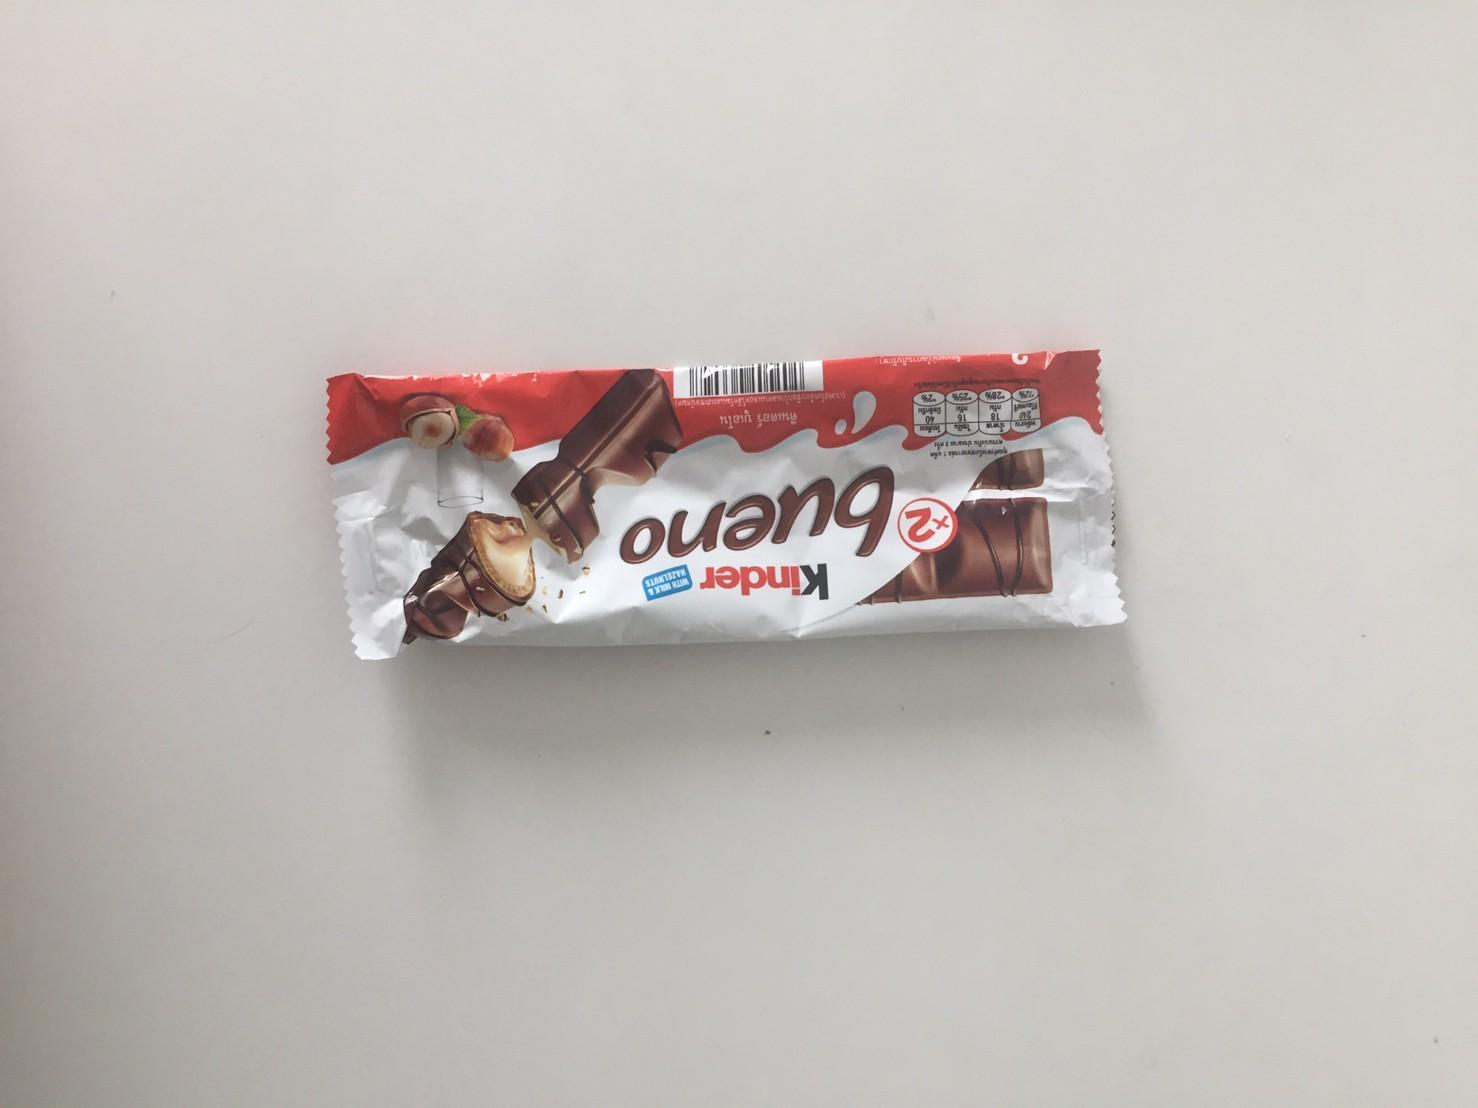plastic: (301, 349, 1132, 675)
